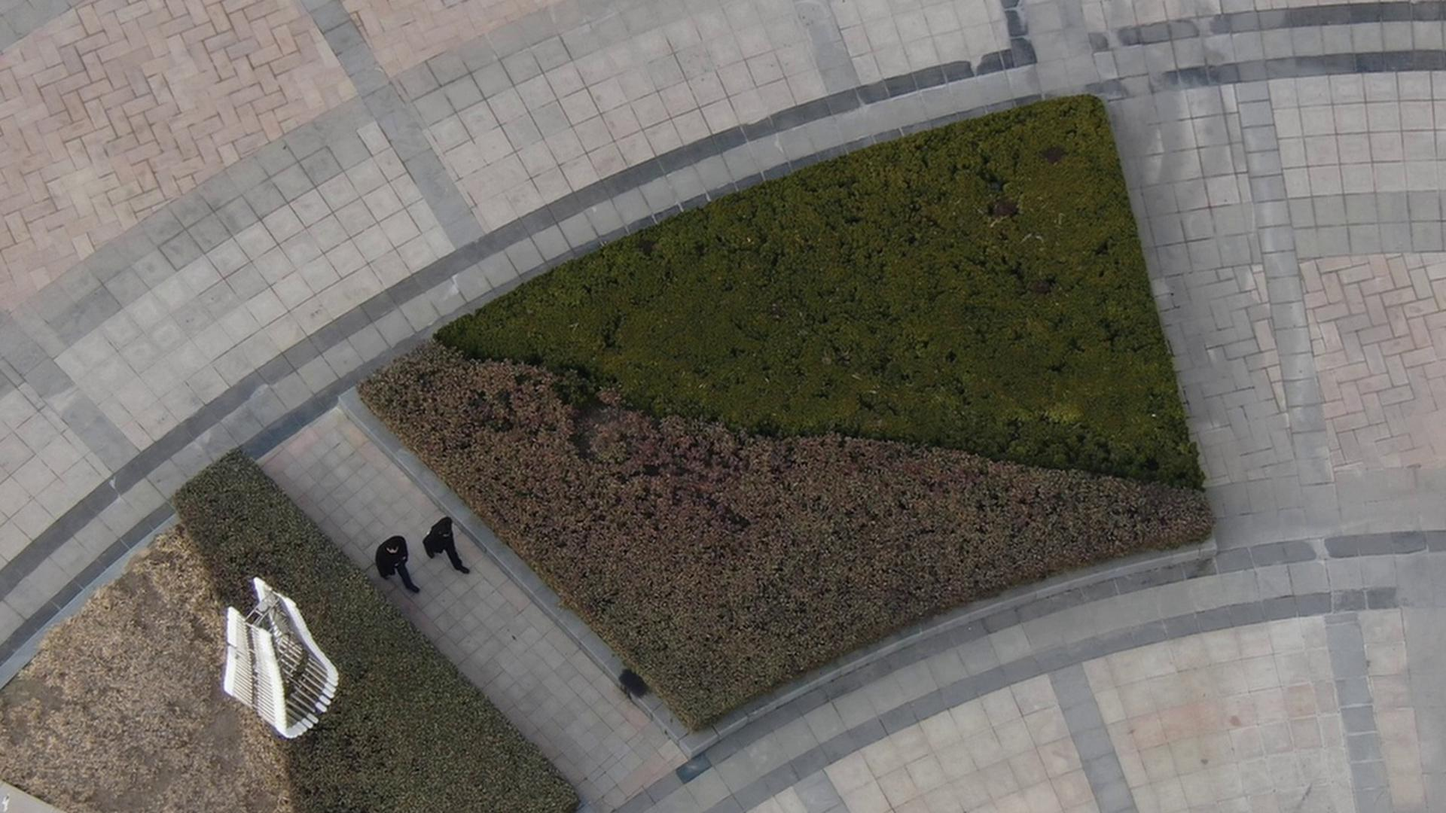human: (419, 510, 474, 572), (371, 531, 418, 594)
